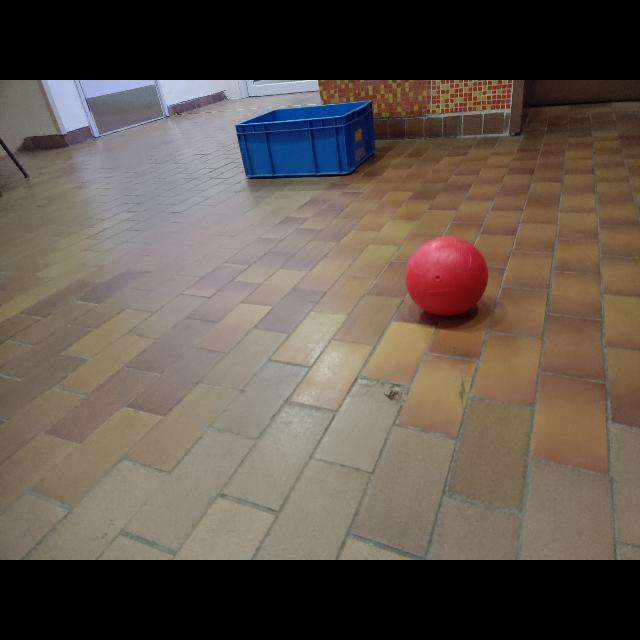R: (408, 232, 492, 320)
